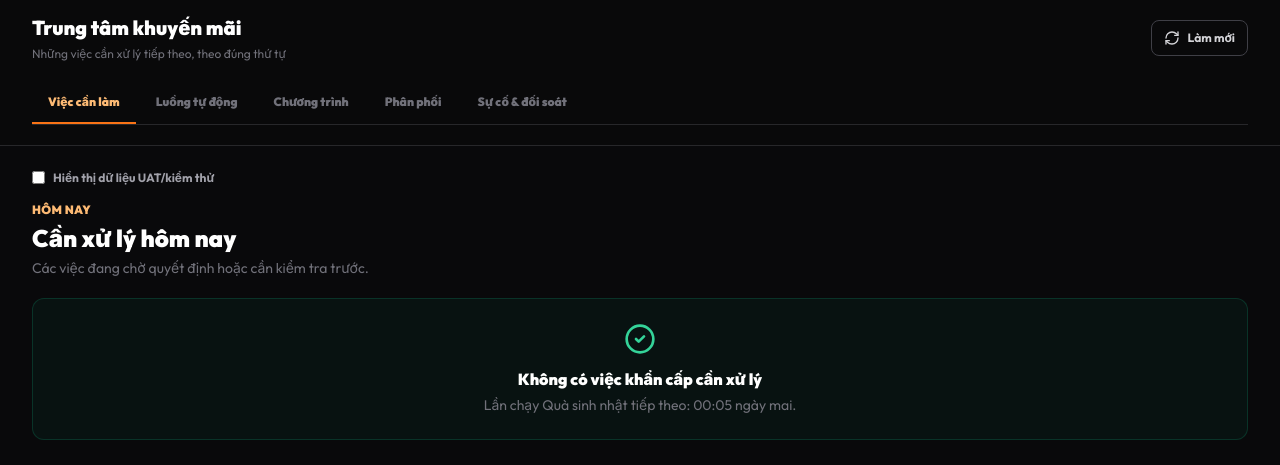
Scenario: AdminPromotionCenterPage › uses entitlement issuance instead of order redemption for automated campaign KPIs
Expected: the text "Không có việc khẩn cấp cần xử lý" is shown, [518,368,762,388]
Click the button "Chương trình".
click(311, 103)  # box [258,82,365,124]
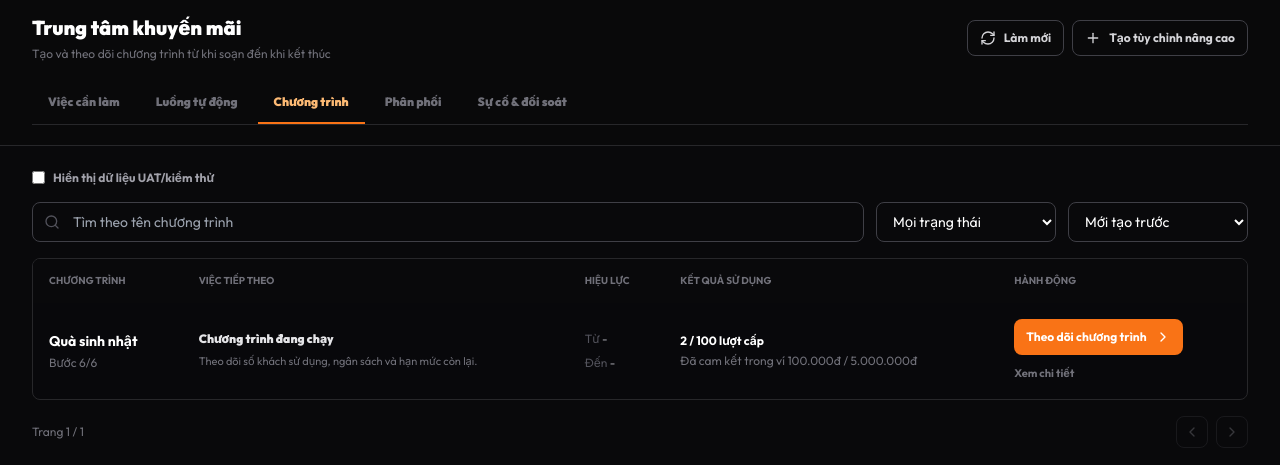
Expected: the text "2 / 100 lượt cấp" is shown, [680,332,764,348]
Expected: the text "Đã cam kết trong ví 100.000đ / 5.000.000đ" is shown, [680,352,917,368]
